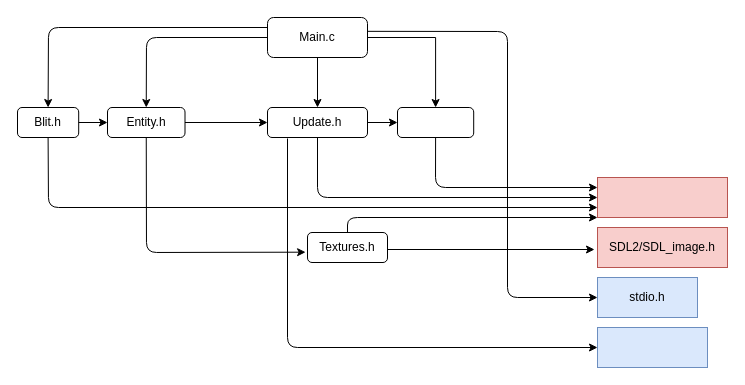
This 745x385 diagram has some shape labels left out. Here are the shapes that lost their labels. From the top down, the centre of each, then its label:
the point at 435,122: Input.h
the point at 662,197: SDL2/SDL.h
the point at 652,347: math.h
